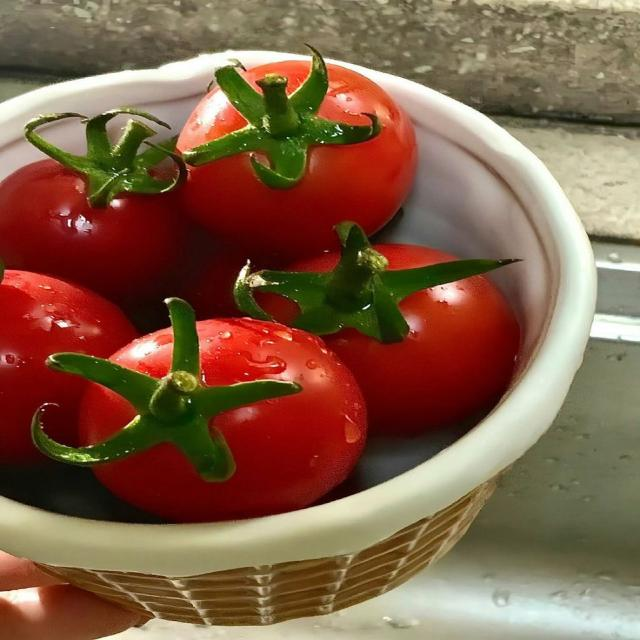tomato: (94, 319, 366, 521), (180, 65, 417, 259), (0, 110, 189, 303), (324, 276, 519, 435), (0, 160, 186, 301), (0, 271, 135, 464), (180, 250, 246, 319)
